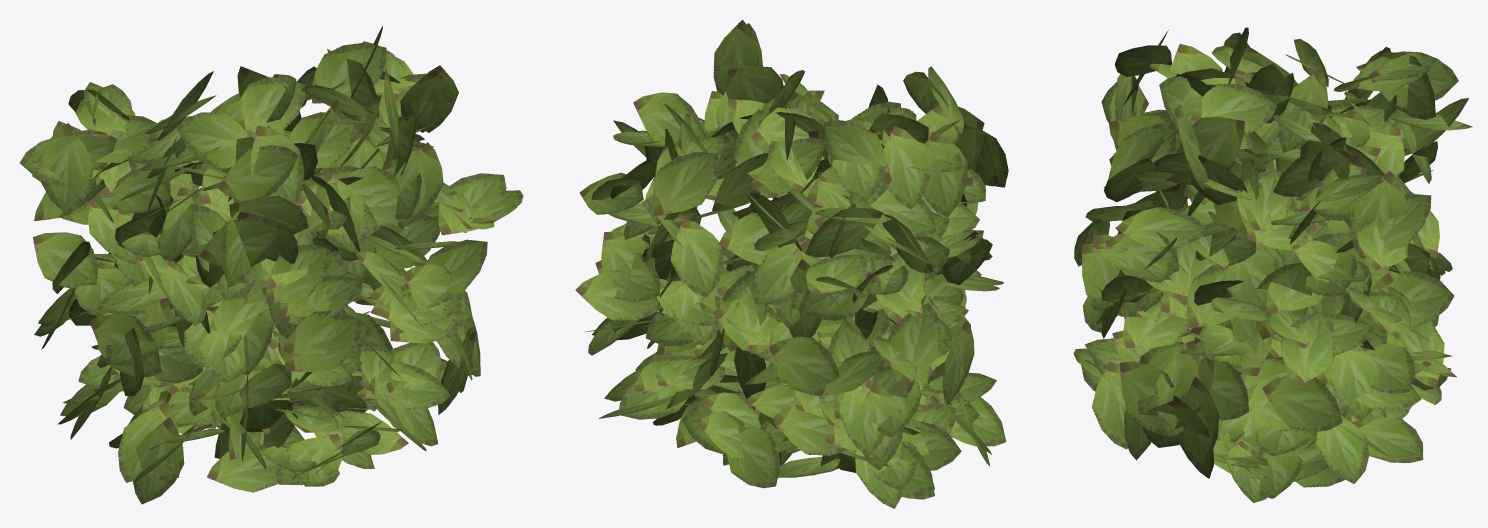
Rendered from shrub-rounded-01-lod0.glb.
3 views of the same model, side by side, from view 1: azimuth 30°, elevation 25°; view 2: azimuth 150°, elevation 25°; view 3: azimuth 270°, elevation 25° (orthographic). The views are drawn at different scales.
Parts seen in each view (by area): view 1: shrub-rounded-01_MATERIAL_BATCH; view 2: shrub-rounded-01_MATERIAL_BATCH; view 3: shrub-rounded-01_MATERIAL_BATCH.
Boxes of the visible parts, x1,y1,x2,y2 form: shrub-rounded-01_MATERIAL_BATCH: [19, 26, 523, 504]; shrub-rounded-01_MATERIAL_BATCH: [575, 19, 1008, 508]; shrub-rounded-01_MATERIAL_BATCH: [1073, 27, 1472, 502].
Bounding box in the file's own units: 1.36 × 1.3 × 1.2.
Materials: 1 (1 with a texture image).
